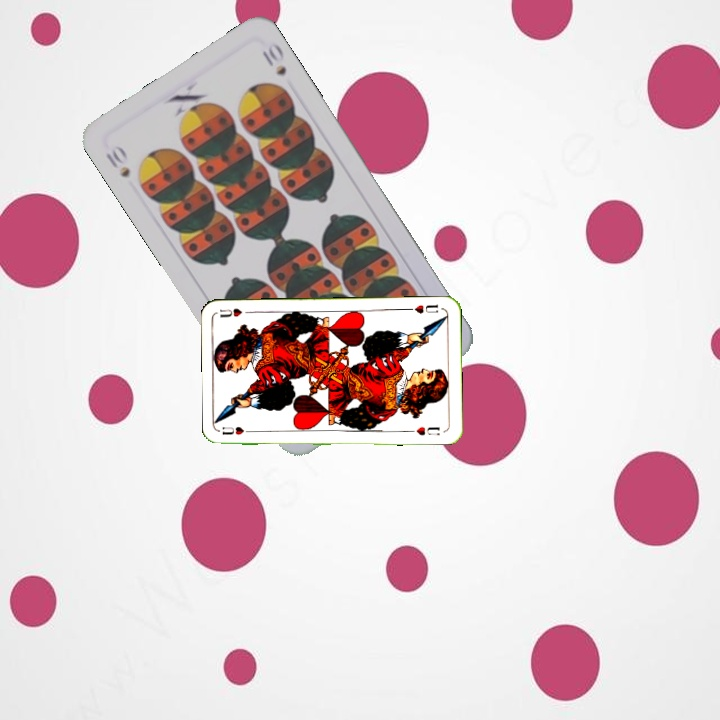HU: (218, 423, 258, 437), (411, 301, 441, 316)
S10: (101, 141, 133, 181)
